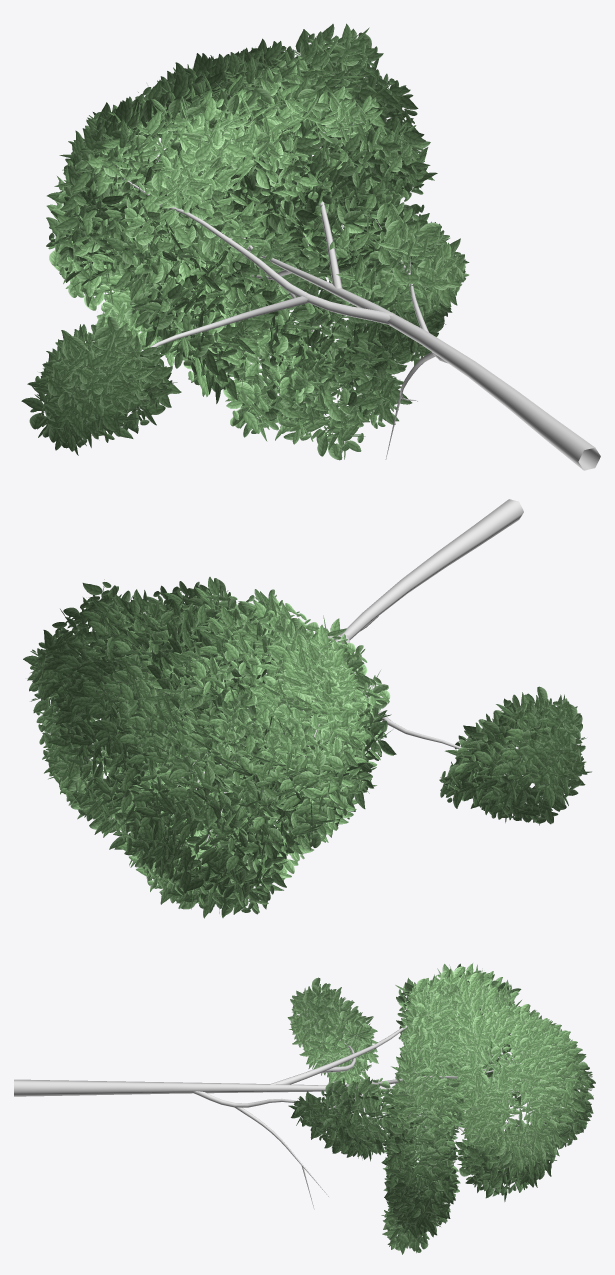
The model's file is Testing tree.fbx.
3 views of the same model, one above another, from view 1: azimuth 30°, elevation 25°; view 2: azimuth 150°, elevation 25°; view 3: azimuth 270°, elevation 25° (orthographic). The views are drawn at different scales.
Visible parts, largest first — view 1: Plane.001; view 2: Plane.001; view 3: Plane.001.
Boxes of the visible parts, x1,y1,x2,y2 form: Plane.001: [21, 23, 600, 470]; Plane.001: [23, 499, 591, 918]; Plane.001: [14, 963, 595, 1254].
Bounding box in the file's own units: 459 × 335 × 684.
